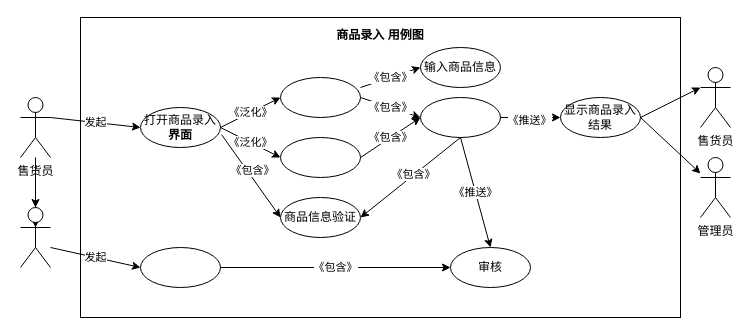
This 750x335 diagram has some shape labels left out. The shapes that lost their labels are listed below. From the top down, each one's centre as x and y in pixels, then its label:
At (x=320, y=97): "打开主机的录入界面".
At (x=460, y=117): "使用商品管理模块".
At (x=320, y=157): "打开移动设备的录入界面".
At (x=35, y=237): "经理".
At (x=180, y=267): "打开商品审核界面".
